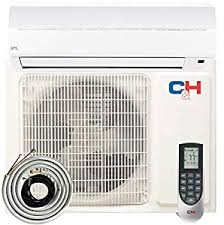ac: (7, 2, 220, 68)
